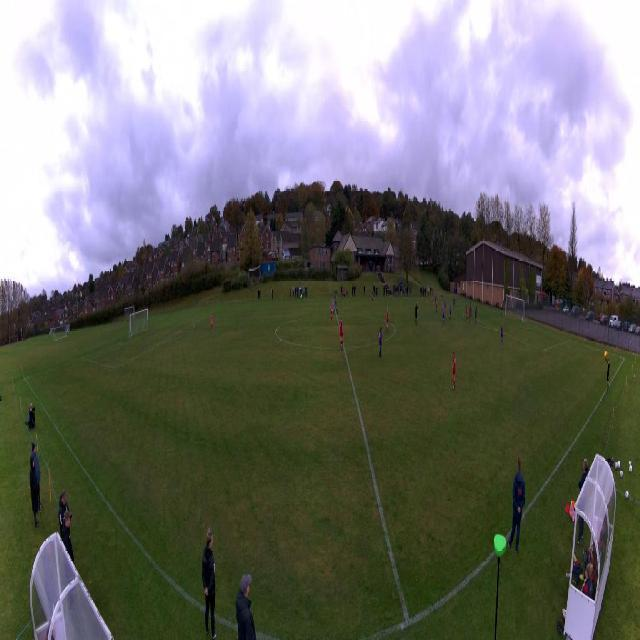ball: (433, 302, 434, 304)
player: (451, 351, 456, 389), (339, 317, 344, 349), (378, 326, 383, 357), (385, 308, 389, 333), (333, 295, 338, 314), (414, 303, 418, 325), (330, 300, 334, 322), (441, 307, 445, 326), (469, 301, 473, 317), (500, 324, 503, 345), (211, 312, 214, 332), (449, 303, 452, 321), (371, 292, 374, 308), (475, 307, 477, 326), (444, 297, 446, 315), (431, 293, 434, 305), (442, 301, 445, 313), (466, 304, 468, 321), (436, 298, 438, 314), (469, 308, 471, 324), (453, 295, 455, 310), (500, 303, 502, 317), (435, 294, 437, 305)
